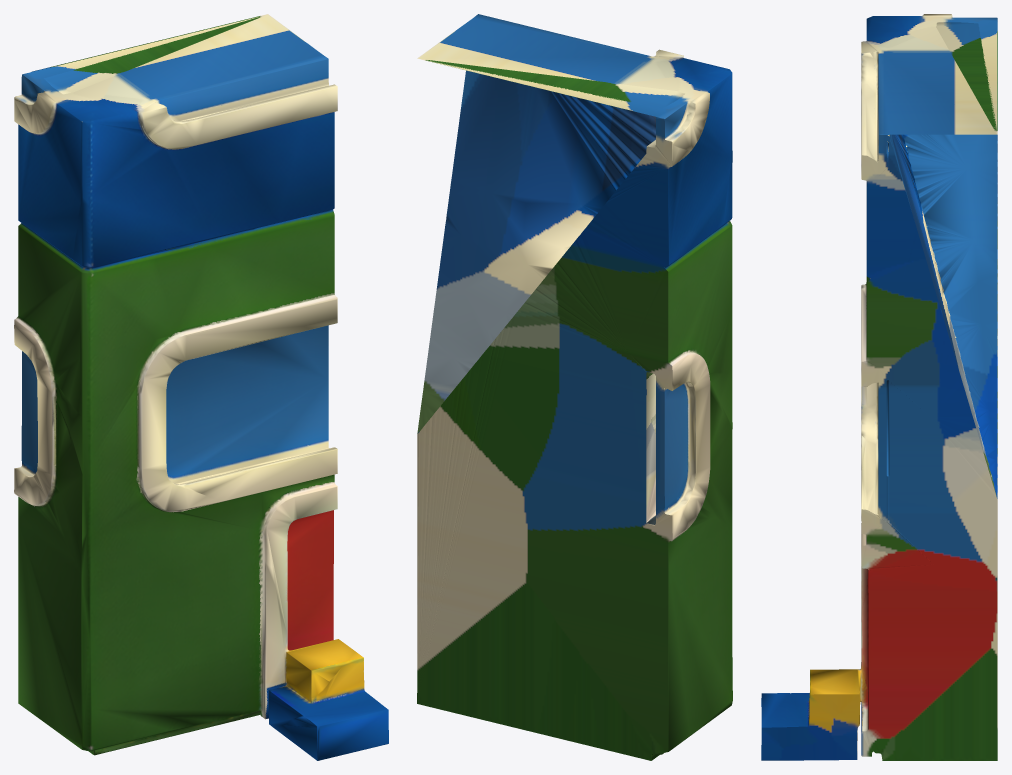
The model's file is 1-ground-floor-front-left.fbx.
3 views of the same model, side by side, from view 1: azimuth 30°, elevation 25°; view 2: azimuth 150°, elevation 25°; view 3: azimuth 270°, elevation 25° (orthographic). The views are drawn at different scales.
Parts seen in each view (by area): view 1: ground-floor-front-left; view 2: ground-floor-front-left; view 3: ground-floor-front-left.
Boxes of the visible parts, left/top/right/bottom form: ground-floor-front-left: left=14, top=14, right=388, bottom=760; ground-floor-front-left: left=417, top=14, right=732, bottom=760; ground-floor-front-left: left=761, top=14, right=997, bottom=760.
Bounding box in the file's own units: 4684 × 11295 × 3859.
1 material, 1 textured.
